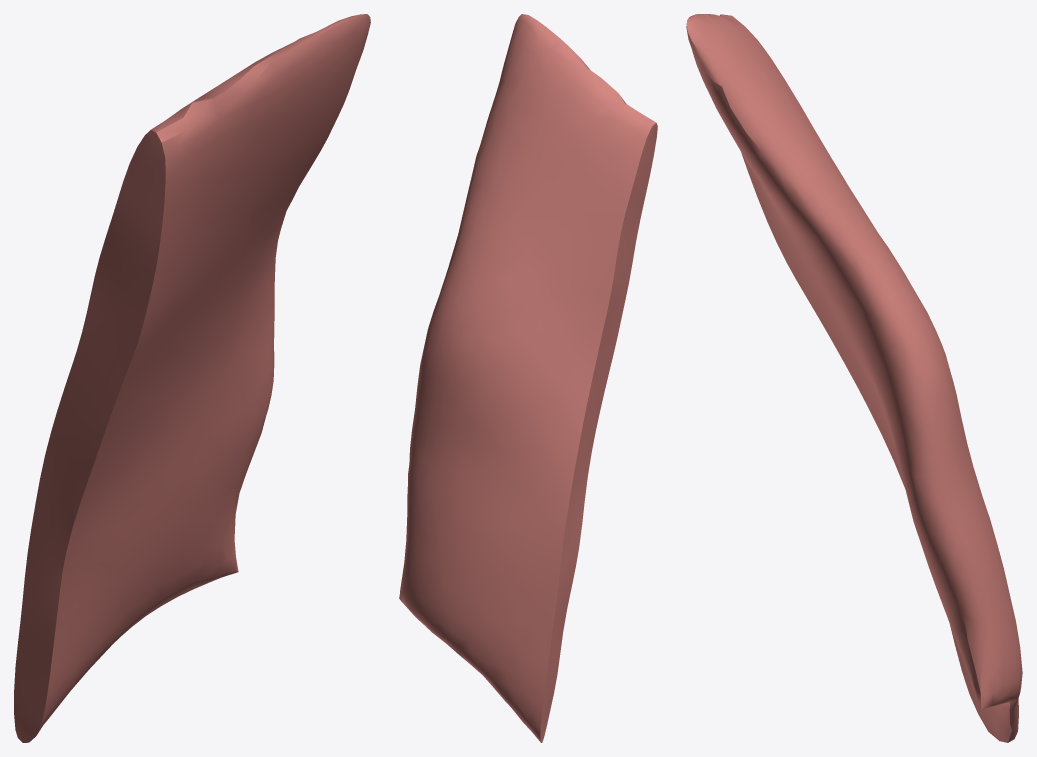
The model's file is fma48715-n_mm4015m.glb.
3 renders of one model, left to right at view 1: azimuth 30°, elevation 25°; view 2: azimuth 150°, elevation 25°; view 3: azimuth 270°, elevation 25°, orthographic. The views are drawn at different scales.
Parts seen in each view (by area): view 1: FMA48715-N_MM4015M; view 2: FMA48715-N_MM4015M; view 3: FMA48715-N_MM4015M.
Boxes of the visible parts, left/top/right/bottom form: FMA48715-N_MM4015M: left=14, top=14, right=370, bottom=742; FMA48715-N_MM4015M: left=399, top=14, right=657, bottom=742; FMA48715-N_MM4015M: left=686, top=14, right=1022, bottom=742.
Bounding box in the file's own units: 0.0156 × 0.0549 × 0.0207.
